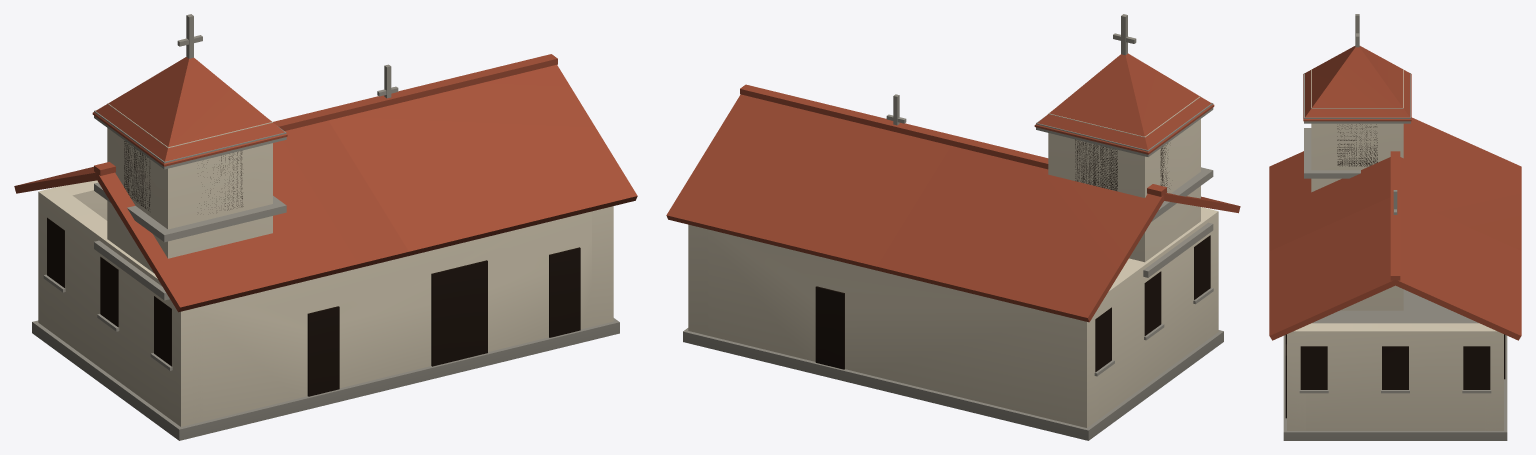
Rendered from independence_chapel_lod1.glb.
3 views of the same model, side by side, from view 1: azimuth 30°, elevation 25°; view 2: azimuth 150°, elevation 25°; view 3: azimuth 270°, elevation 25° (orthographic). The views are drawn at different scales.
Visible parts, largest first — view 1: GEO-Arch_independence_chapel_LOD1; view 2: GEO-Arch_independence_chapel_LOD1; view 3: GEO-Arch_independence_chapel_LOD1.
Boxes of the visible parts, x1,y1,x2,y2 form: GEO-Arch_independence_chapel_LOD1: (14,14,637,440); GEO-Arch_independence_chapel_LOD1: (666,14,1240,440); GEO-Arch_independence_chapel_LOD1: (1269,14,1521,440).
Bounding box in the file's own units: 14.8 × 11.6 × 9.3.
